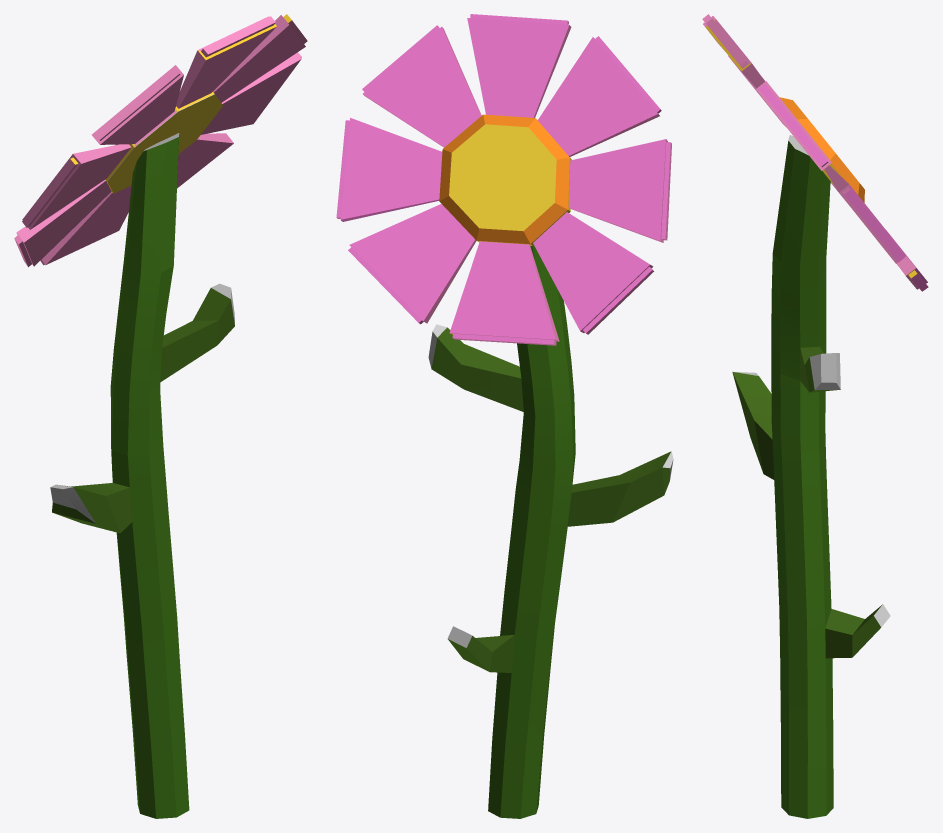
File: flor astetik.fbx
The picture shows the model from 3 angles, left to right: view 1: azimuth 30°, elevation 25°; view 2: azimuth 150°, elevation 25°; view 3: azimuth 270°, elevation 25°; orthographic projection. The views are drawn at different scales.
Visible parts, largest first — view 1: Circle.003; view 2: Circle.003; view 3: Circle.003.
Boxes of the visible parts, x1,y1,x2,y2 form: Circle.003: (14, 14, 307, 818); Circle.003: (336, 14, 673, 818); Circle.003: (702, 14, 928, 818).
Bounding box in the file's own units: 65.43 × 162 × 42.34.
